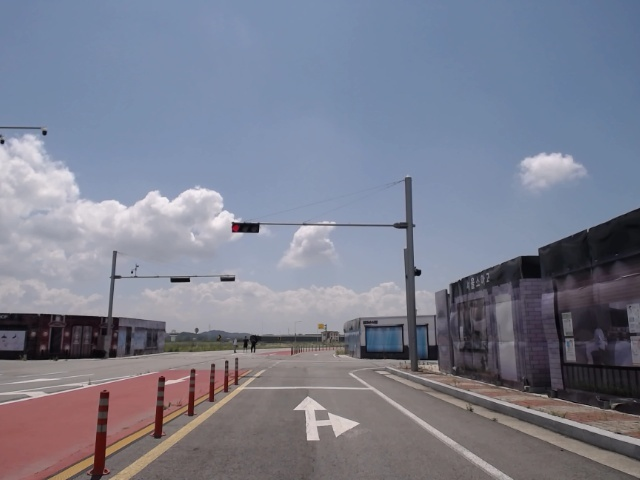red_3: (230, 222, 262, 234)
